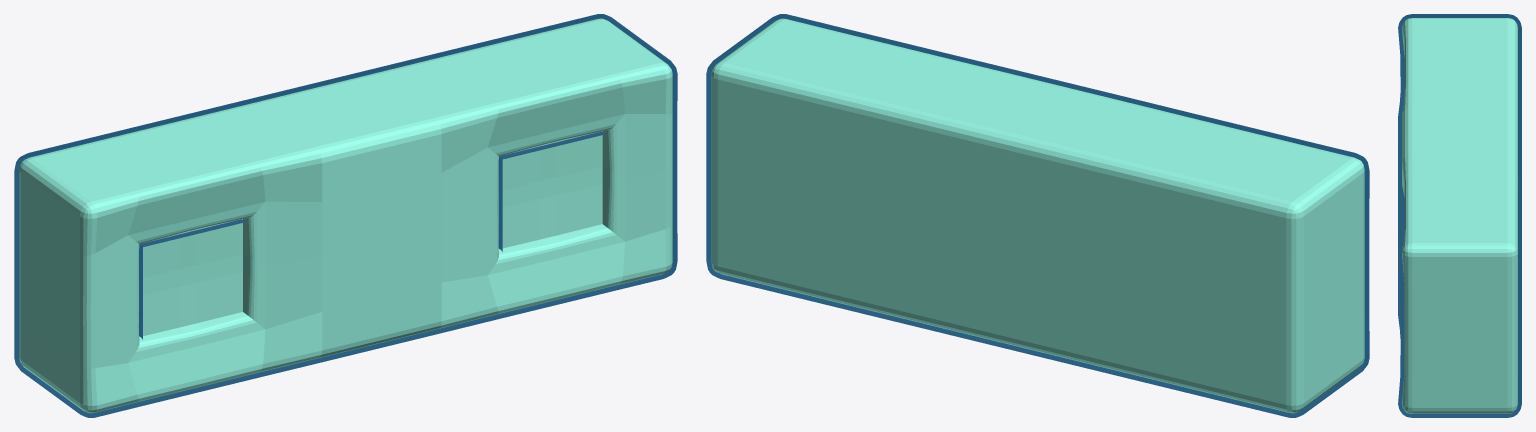
3 views of the same model, side by side, from view 1: azimuth 30°, elevation 25°; view 2: azimuth 150°, elevation 25°; view 3: azimuth 270°, elevation 25° (orthographic). The views are drawn at different scales.
Parts seen in each view (by area): view 1: Cube; view 2: Cube; view 3: Cube.
Boxes of the visible parts, box(x1,y1,x2,y2) form: Cube: box(14, 14, 677, 417); Cube: box(706, 14, 1369, 417); Cube: box(1398, 14, 1521, 417).
Bounding box in the file's own units: 5.73 × 2 × 1.27.
